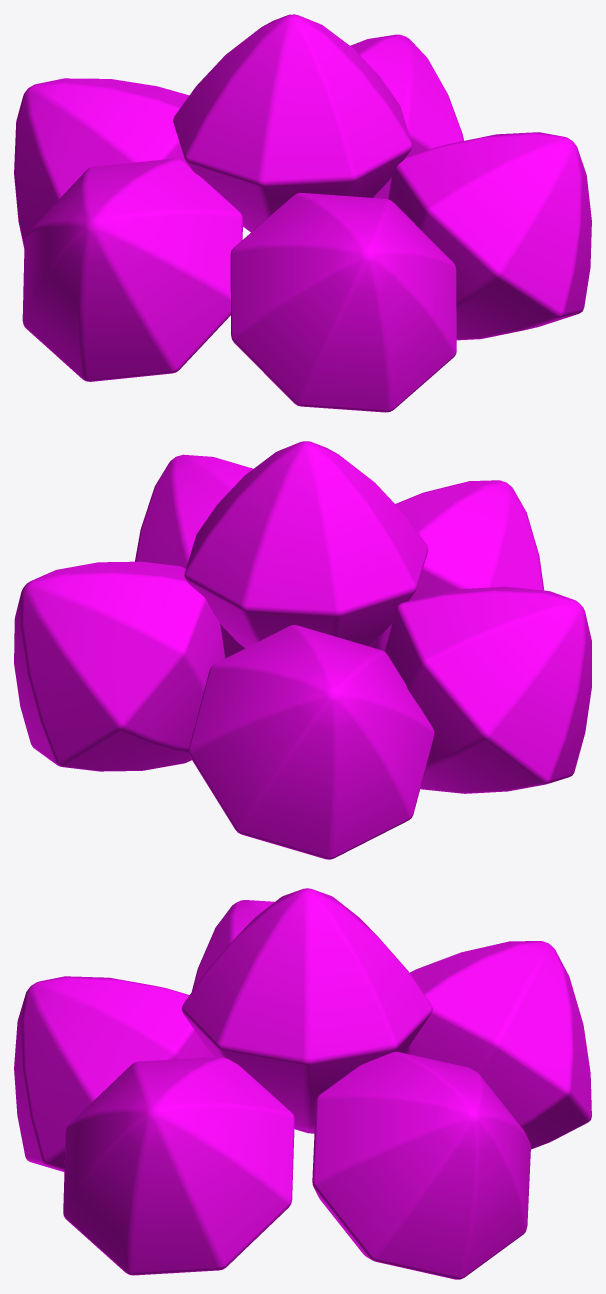
The picture shows the model from 3 angles, top to bottom: view 1: azimuth 30°, elevation 25°; view 2: azimuth 150°, elevation 25°; view 3: azimuth 270°, elevation 25°; orthographic projection. The views are drawn at different scales.
Visible parts, largest first — view 1: model_0.115; view 2: model_0.115; view 3: model_0.115.
Part boxes in pixels (bbox=[...]): model_0.115: bbox=[14, 14, 591, 412]; model_0.115: bbox=[14, 441, 591, 859]; model_0.115: bbox=[14, 888, 591, 1279].
Size of the model in its own units: 4.04 by 2.44 by 4.15.
